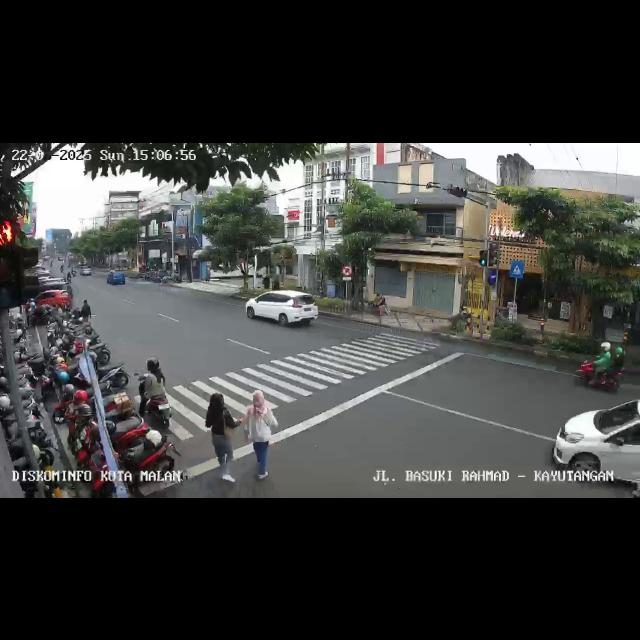car: (550, 396, 640, 496), (247, 288, 320, 330), (32, 277, 72, 313), (105, 268, 126, 288)
motorcycle: (574, 340, 634, 392), (138, 358, 172, 428)
person: (244, 390, 276, 486), (204, 390, 234, 478)
